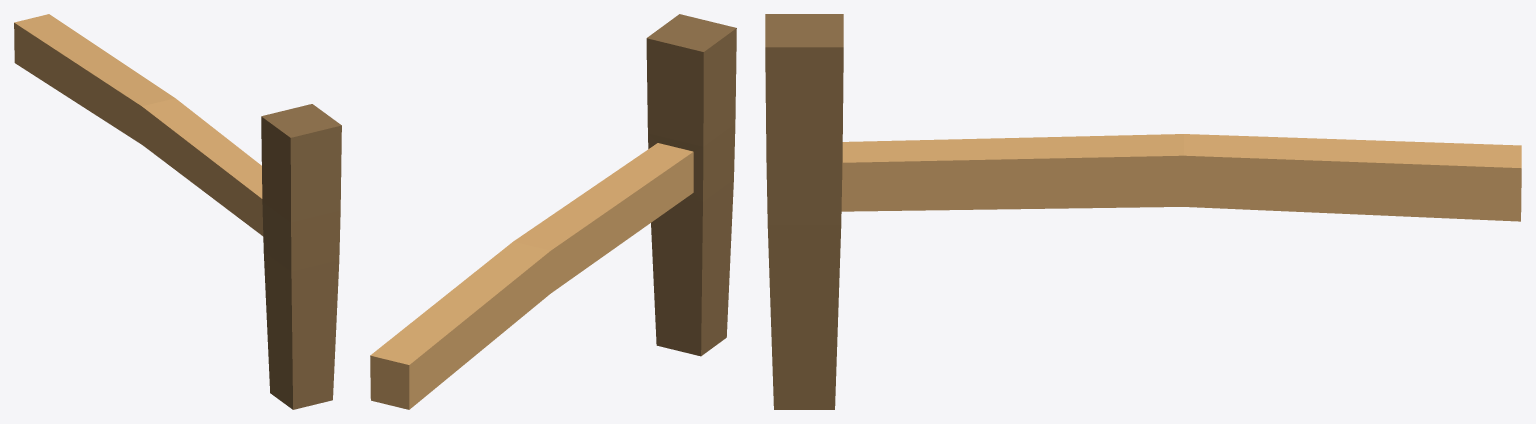
File: Fence.fbx
3 renders of one model, left to right at view 1: azimuth 30°, elevation 25°; view 2: azimuth 150°, elevation 25°; view 3: azimuth 270°, elevation 25°, orthographic. The views are drawn at different scales.
Visible parts, largest first — view 1: Fance; view 2: Fance; view 3: Fance.
Part boxes in pixels (bbox=[...]): Fance: bbox=[14, 14, 341, 409]; Fance: bbox=[370, 14, 736, 409]; Fance: bbox=[765, 14, 1521, 409].
Size of the model in its own units: 31.46 by 162 by 303.
